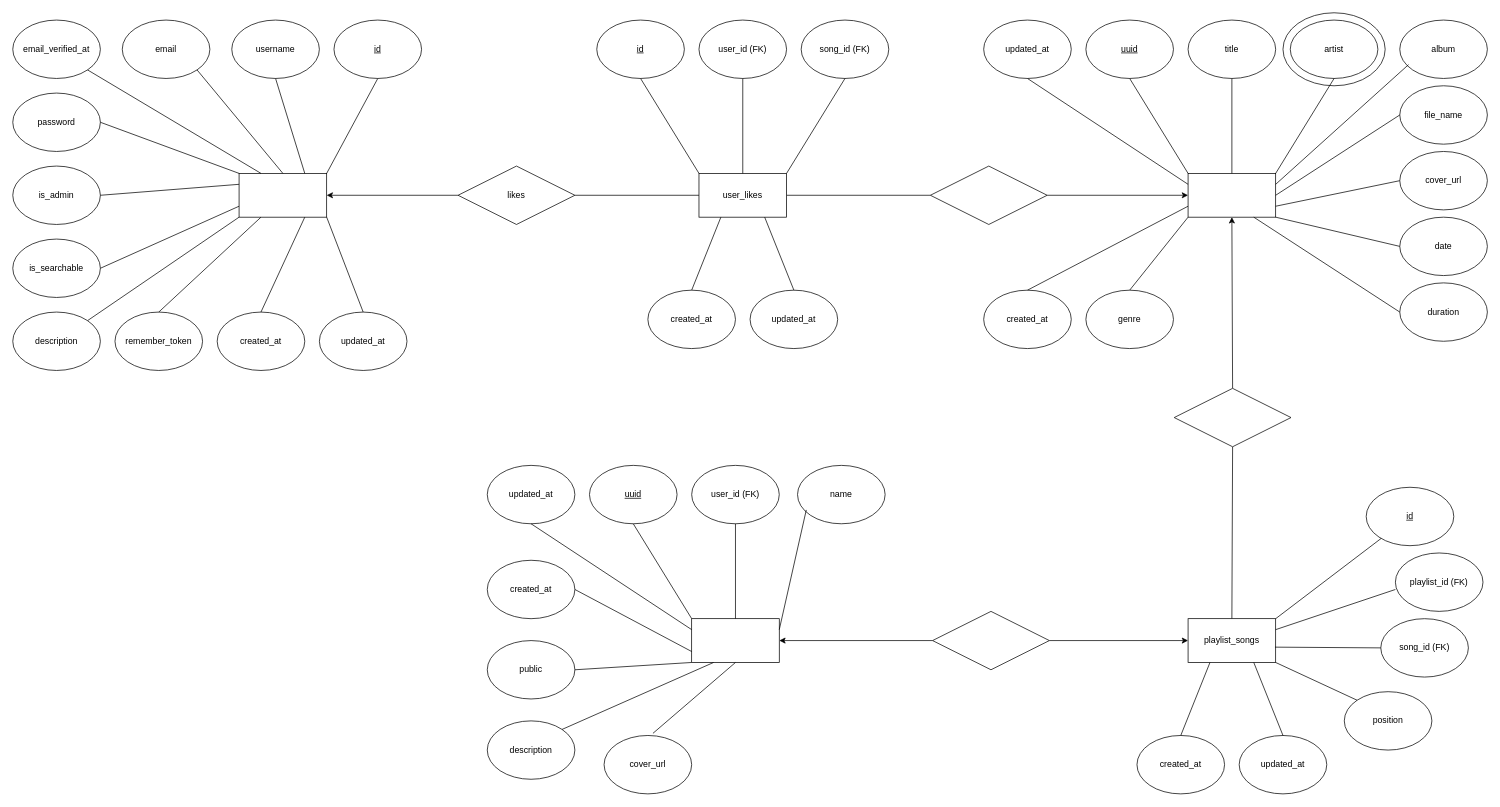
This 1500x807 diagram has some shape labels left out. Here are the shapes that lost their labels. From the top down, the box of each, then its label:
(238, 173, 327, 217): users
(930, 165, 1047, 224): is liked by
(1187, 173, 1276, 217): songs
(1173, 388, 1291, 447): included in
(691, 618, 779, 662): playlists
(932, 611, 1049, 670): Includes
